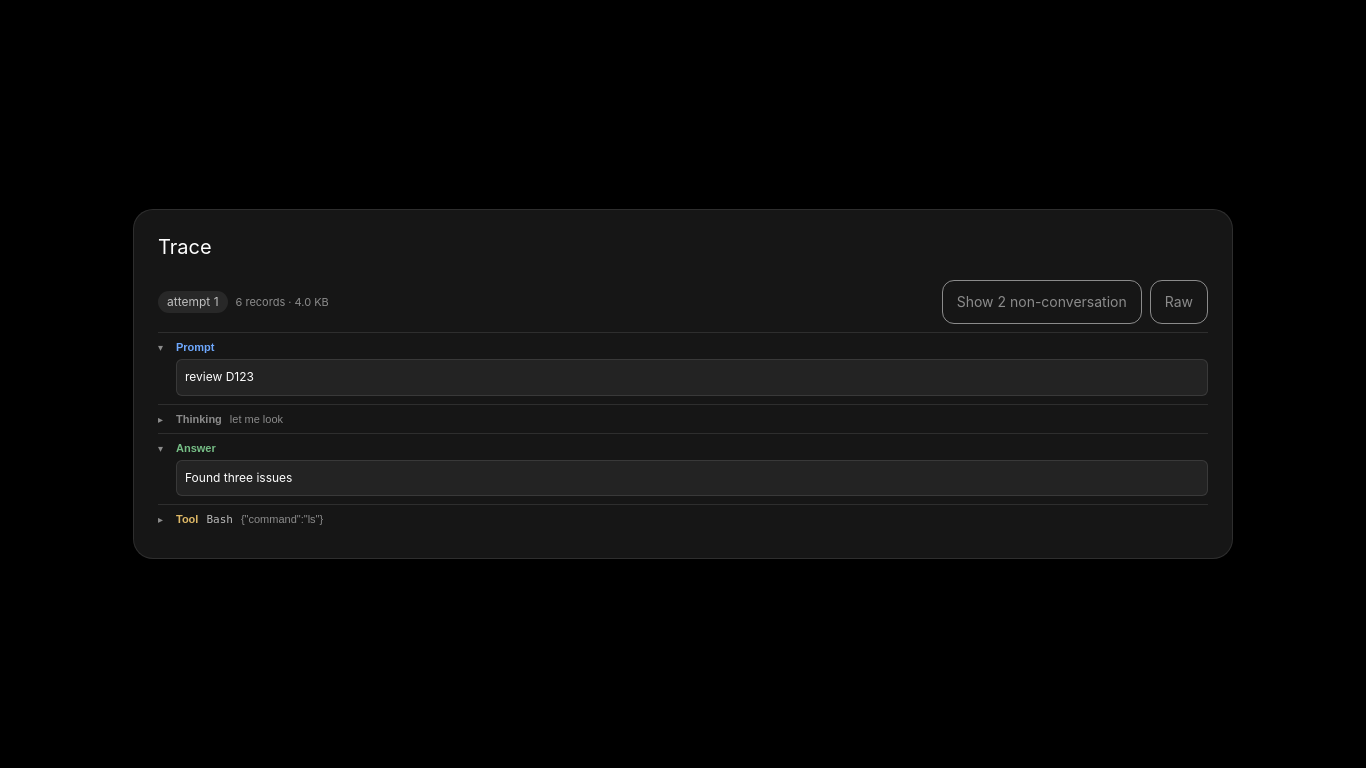
Scenario: TraceModal › keeps the noise out of the way but reachable
The width and height of the screenshot is (1366, 768).
Expected: the text "review D123" is shown, [185, 369, 254, 384]
Expected: the text "hook_success" is not shown
Click the button "Show 2 non-conversation": point(1042, 302) [942, 280, 1142, 324]
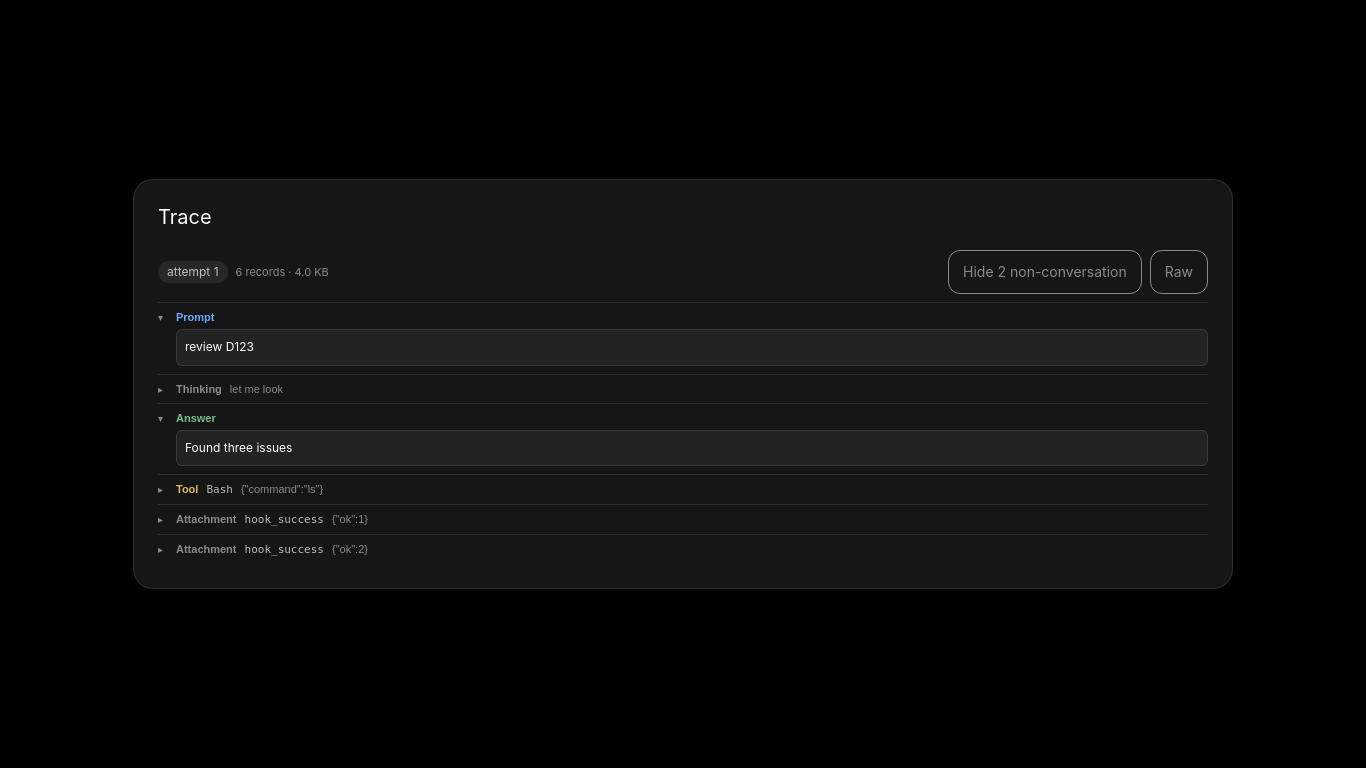
Now the text "hook_success" is shown 2 times, box [244, 513, 324, 526]; [244, 543, 324, 556]
